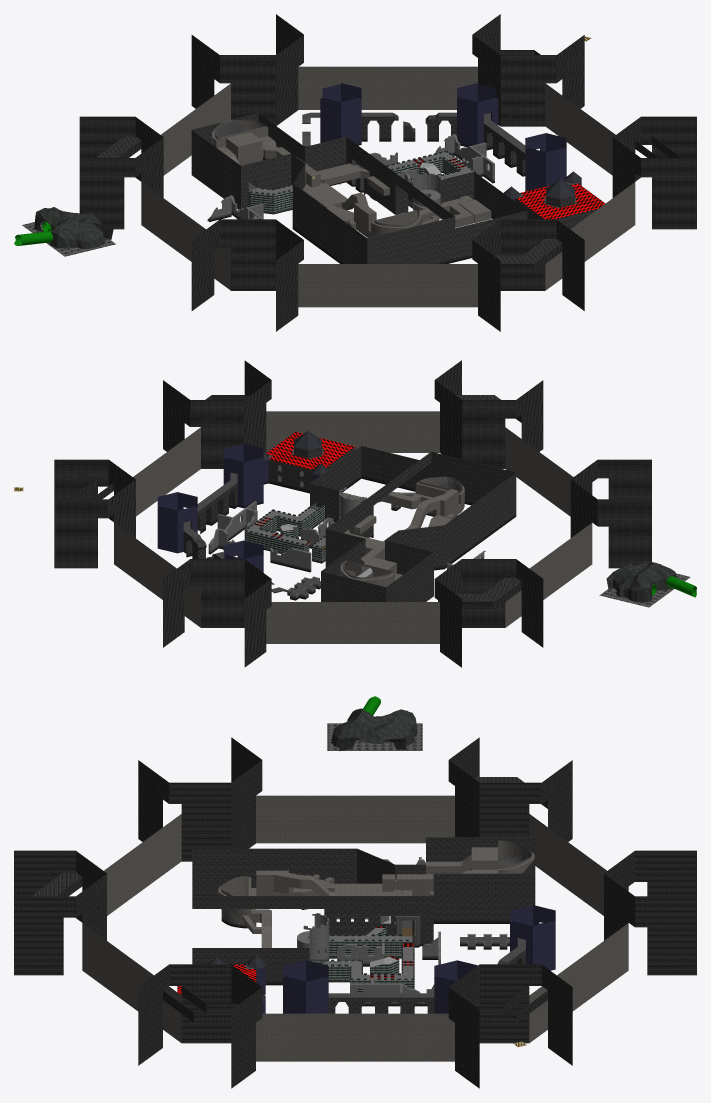
3 renders of one model, top to bottom at view 1: azimuth 30°, elevation 25°; view 2: azimuth 150°, elevation 25°; view 3: azimuth 270°, elevation 25°, orthographic. The views are drawn at different scales.
Visible parts, largest first — view 1: cod-SKP--Material18, cod-SKP--auto12, cod-SKP--auto19, cod-SKP--Material17, cod-SKP--auto18, cod-SKP--Material25, cod-SKP--Material15, cod-SKP--auto14, cod-SKP--Material7, cod-SKP--Material1, cod-SKP--Material6, cod-SKP--Material19 (+2 smaller); view 2: cod-SKP--Material18, cod-SKP--auto12, cod-SKP--auto19, cod-SKP--Material17, cod-SKP--auto18, cod-SKP--Material1, cod-SKP--Material25, cod-SKP--Material15, cod-SKP--auto14, cod-SKP--Material6, cod-SKP--auto17, cod-SKP--Material19 (+2 smaller); view 3: cod-SKP--Material18, cod-SKP--auto12, cod-SKP--auto19, cod-SKP--Material17, cod-SKP--auto18, cod-SKP--Material25, cod-SKP--Material1, cod-SKP--auto14, cod-SKP--auto17, cod-SKP--Material28.
Part boxes in pixels (left/top/right/bottom): cod-SKP--Material18: left=79, top=14, right=696, bottom=331; cod-SKP--auto12: left=141, top=66, right=635, bottom=307; cod-SKP--auto19: left=191, top=113, right=597, bottom=263; cod-SKP--Material17: left=320, top=83, right=581, bottom=201; cod-SKP--auto18: left=210, top=134, right=494, bottom=219; cod-SKP--Material25: left=34, top=206, right=113, bottom=248; cod-SKP--Material15: left=516, top=183, right=605, bottom=219; cod-SKP--auto14: left=215, top=112, right=577, bottom=224; cod-SKP--Material7: left=247, top=169, right=447, bottom=212; cod-SKP--Material1: left=386, top=150, right=476, bottom=204; cod-SKP--Material6: left=241, top=138, right=525, bottom=263; cod-SKP--Material19: left=503, top=171, right=581, bottom=198; cod-SKP--Material18: left=54, top=360, right=651, bottom=667; cod-SKP--auto12: left=114, top=411, right=592, bottom=643; cod-SKP--auto19: left=183, top=446, right=516, bottom=601; cod-SKP--Material17: left=157, top=443, right=320, bottom=572; cod-SKP--auto18: left=208, top=487, right=485, bottom=597; cod-SKP--Material1: left=244, top=502, right=325, bottom=560; cod-SKP--Material25: left=606, top=557, right=676, bottom=602; cod-SKP--Material15: left=266, top=432, right=354, bottom=469; cod-SKP--auto14: left=183, top=448, right=460, bottom=595; cod-SKP--Material6: left=186, top=475, right=516, bottom=570; cod-SKP--auto17: left=247, top=508, right=325, bottom=547; cod-SKP--Material19: left=263, top=431, right=328, bottom=475; cod-SKP--Material18: left=14, top=737, right=696, bottom=1088; cod-SKP--auto12: left=82, top=795, right=628, bottom=1061; cod-SKP--auto19: left=192, top=837, right=535, bottom=1013; cod-SKP--Material17: left=256, top=905, right=555, bottom=1013; cod-SKP--auto18: left=297, top=857, right=509, bottom=1010; cod-SKP--Material25: left=331, top=708, right=417, bottom=751; cod-SKP--Material1: left=309, top=927, right=414, bottom=992; cod-SKP--auto14: left=221, top=854, right=543, bottom=997; cod-SKP--auto17: left=321, top=928, right=414, bottom=979; cod-SKP--Material28: left=327, top=723, right=422, bottom=750.
Bounding box in the file's own units: 309813 × 34891 × 258748.
Materials: 50 (50 with a texture image).
